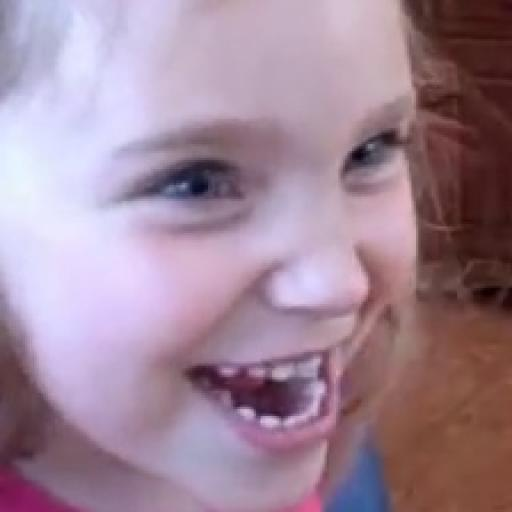Autism: (31, 21, 512, 501)
